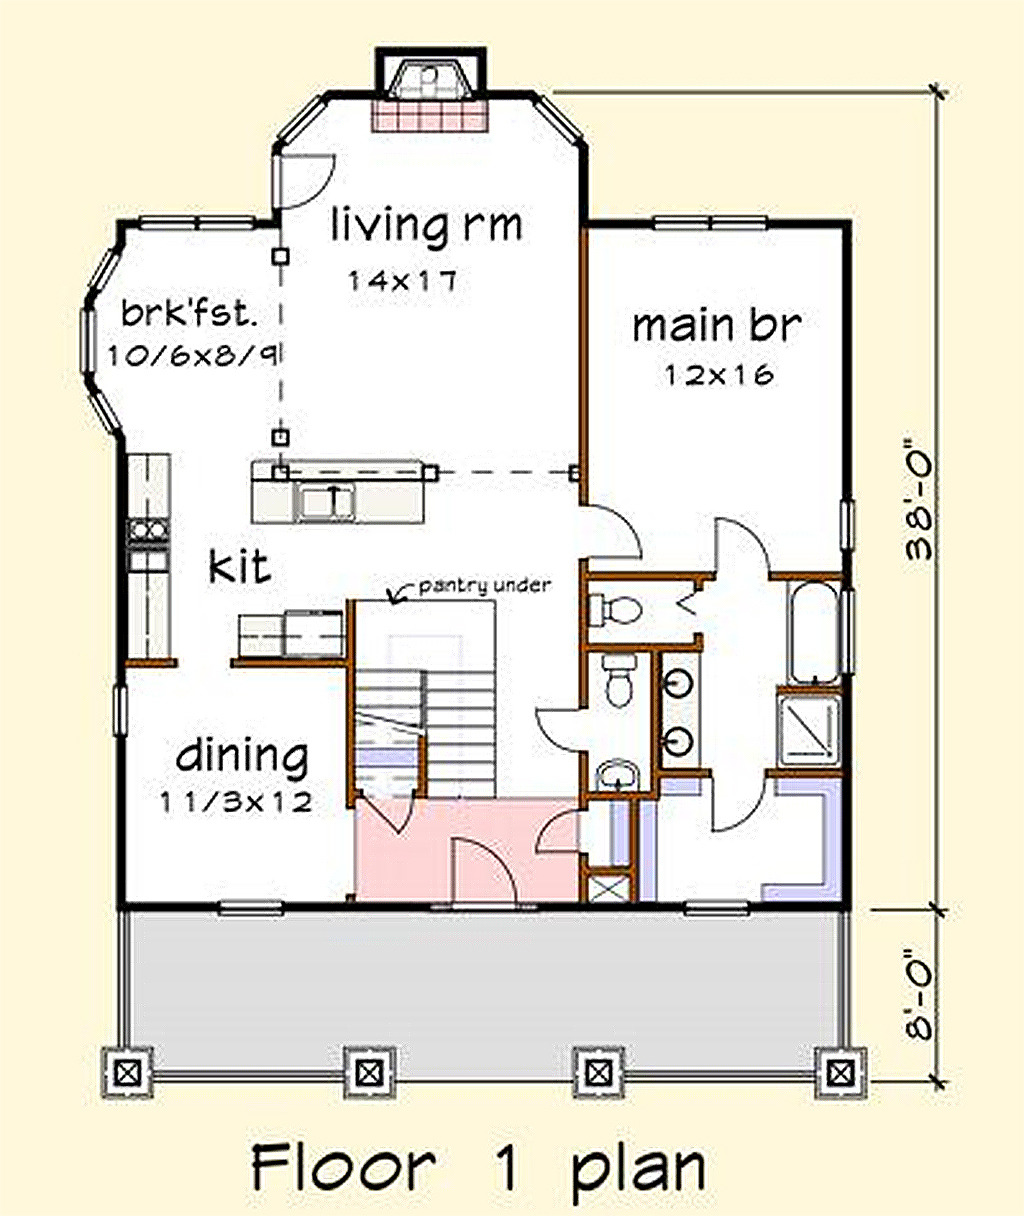door: (512, 793, 596, 865), (518, 697, 598, 764), (572, 501, 653, 565), (705, 764, 772, 841), (707, 514, 779, 580), (448, 834, 516, 897), (362, 791, 412, 843)
kitchen_bar: (233, 452, 460, 545)
large_sink: (583, 582, 653, 639), (603, 641, 646, 715)
small_sink: (662, 641, 698, 771), (599, 752, 648, 791)
stairs: (342, 597, 509, 804)
tub: (785, 576, 840, 688)
window: (648, 202, 777, 243), (127, 202, 255, 238), (68, 302, 110, 386), (675, 895, 757, 929), (825, 499, 866, 554), (836, 586, 860, 676), (212, 895, 289, 921), (110, 684, 127, 745)
